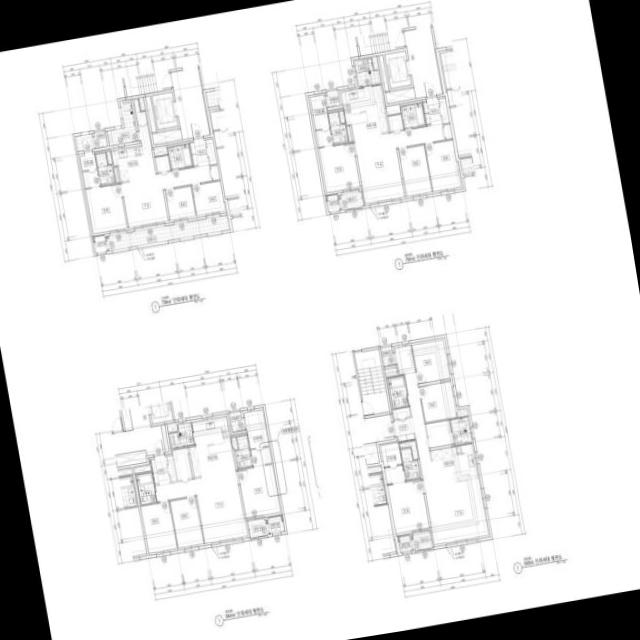background: (0, 0, 640, 640)
space_balconi: (105, 215, 230, 251), (106, 99, 137, 146), (354, 58, 380, 87), (169, 422, 194, 448), (450, 417, 471, 445), (338, 190, 363, 210), (247, 518, 269, 537), (411, 531, 432, 550)
space_bedroom: (387, 479, 429, 533), (238, 464, 280, 518), (85, 183, 127, 233), (318, 142, 360, 192), (140, 501, 177, 553), (424, 140, 461, 191), (169, 497, 203, 548), (398, 145, 431, 196), (412, 339, 450, 383), (419, 381, 456, 422), (191, 181, 225, 215), (165, 186, 195, 220)
space_dressroom: (244, 410, 271, 466), (309, 95, 332, 147), (380, 442, 405, 484), (79, 151, 99, 188)
space_elevator: (152, 92, 178, 129), (385, 51, 411, 88)
space_elevator_hall: (171, 67, 209, 139), (404, 26, 442, 98)
space_front: (150, 454, 170, 484), (189, 137, 209, 166), (422, 96, 442, 125), (392, 417, 415, 442)
space_kitchen: (111, 99, 155, 180), (188, 416, 235, 477), (341, 85, 388, 137), (429, 443, 478, 485)
space_living_room: (395, 345, 488, 544), (353, 123, 445, 203), (155, 470, 247, 543), (121, 164, 212, 227)
space_other: (425, 420, 453, 448), (74, 131, 107, 151), (172, 447, 192, 480), (152, 128, 182, 144), (385, 87, 415, 103), (145, 96, 156, 132), (378, 55, 389, 91), (399, 441, 418, 459), (229, 411, 245, 432), (380, 346, 396, 366), (166, 455, 177, 481), (439, 97, 449, 123), (325, 90, 340, 107), (155, 155, 170, 172), (388, 114, 403, 131), (206, 139, 216, 164), (392, 406, 410, 419), (161, 424, 169, 452), (133, 465, 151, 473), (153, 146, 167, 156), (443, 124, 452, 139), (210, 165, 219, 180), (384, 367, 397, 375), (113, 167, 119, 182), (346, 126, 352, 141), (231, 437, 238, 449), (339, 110, 345, 123), (106, 151, 112, 164), (168, 424, 177, 432), (457, 410, 467, 417), (139, 98, 144, 110), (372, 57, 377, 69)
space_outdoor_room: (267, 515, 285, 534), (397, 535, 412, 553), (325, 194, 340, 212)
space_staircase: (354, 348, 389, 415)
space_toilet: (387, 375, 408, 408), (400, 447, 420, 480), (136, 472, 156, 505), (95, 152, 115, 185), (328, 111, 348, 144), (400, 103, 425, 128), (167, 144, 192, 169), (234, 435, 252, 468)
